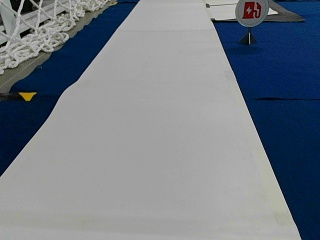battery: (234, 0, 271, 27)
